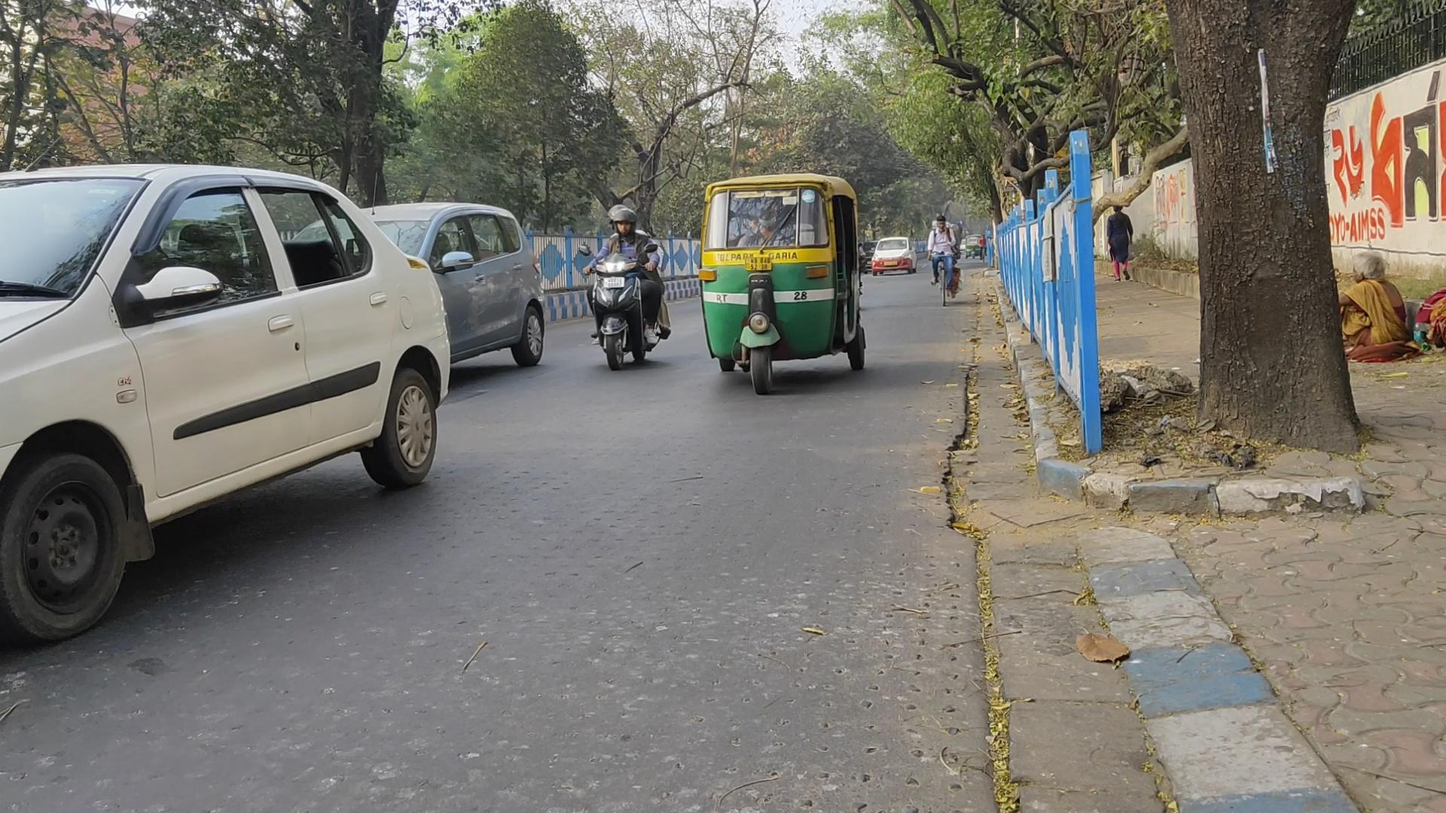Auto: (696, 173, 867, 396), (966, 233, 981, 261)
bike: (578, 203, 672, 370), (926, 215, 959, 307)
car: (1, 161, 454, 645), (286, 201, 546, 383), (871, 236, 918, 277)
